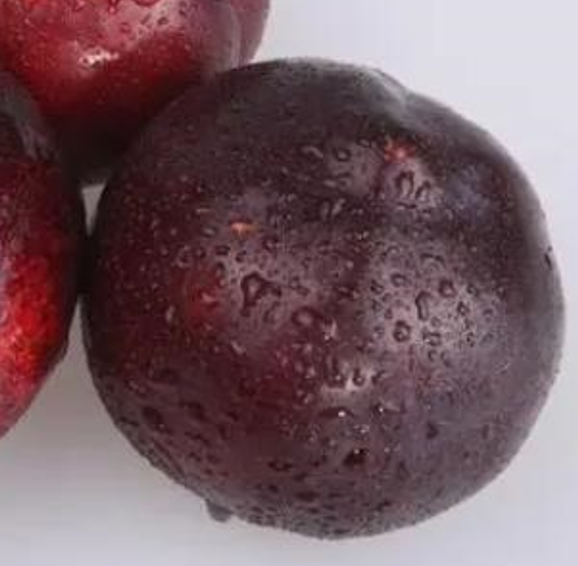plum_A: (81, 58, 565, 541)
